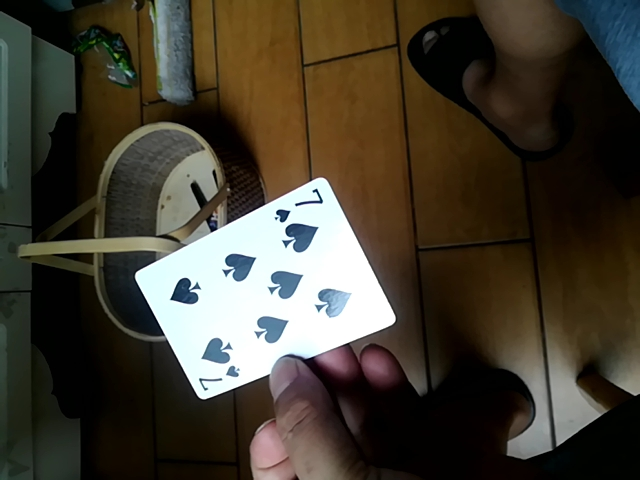ht 7: (135, 174, 403, 406)
